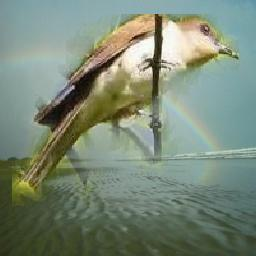Cuckoo: (13, 15, 240, 212)
